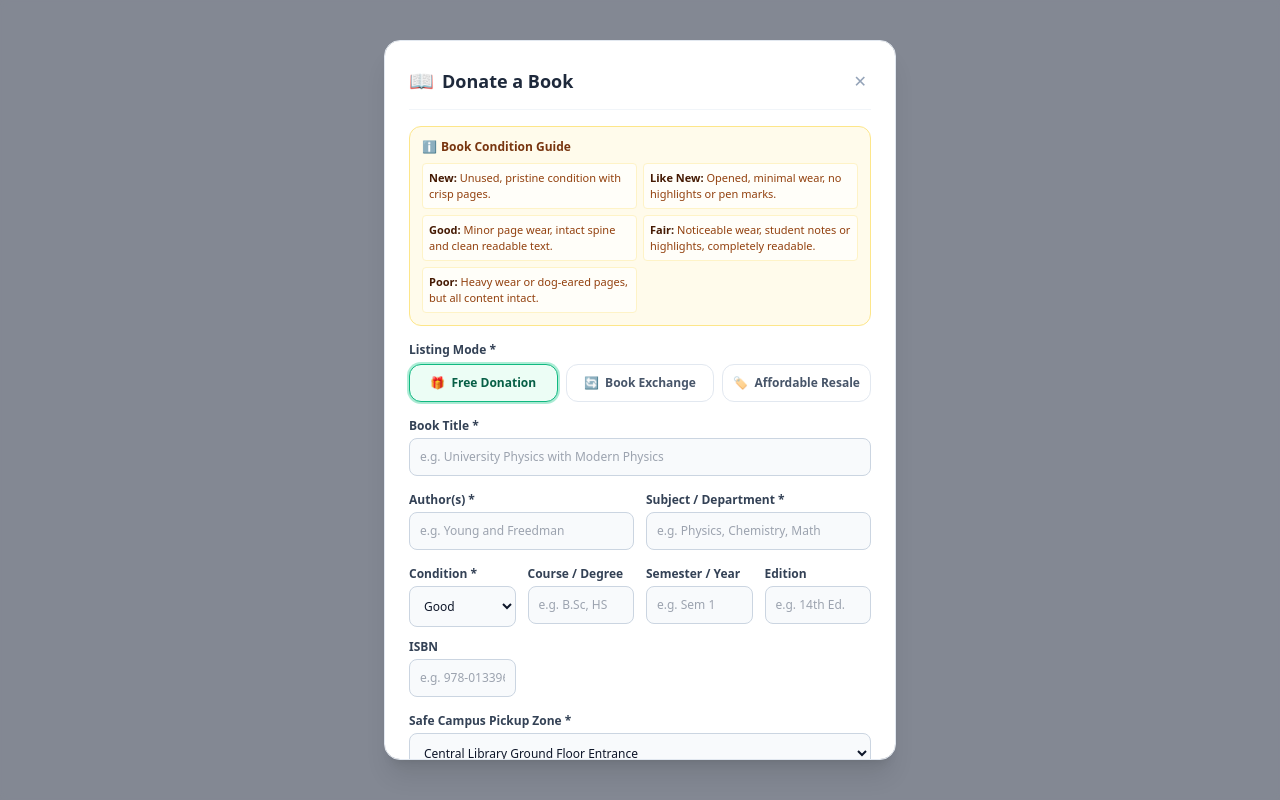
Test: DonateBookModal Component (CS-004 & CS-011) › switches to Exchange (Barter) mode and submits exchangePreferences (CS-016)
The image size is (1280, 800).
Later steps or results of the test are not shown.
Click the button with test id "listing-type-exchange-btn" at coordinates (640, 383), box [566,364,714,402]
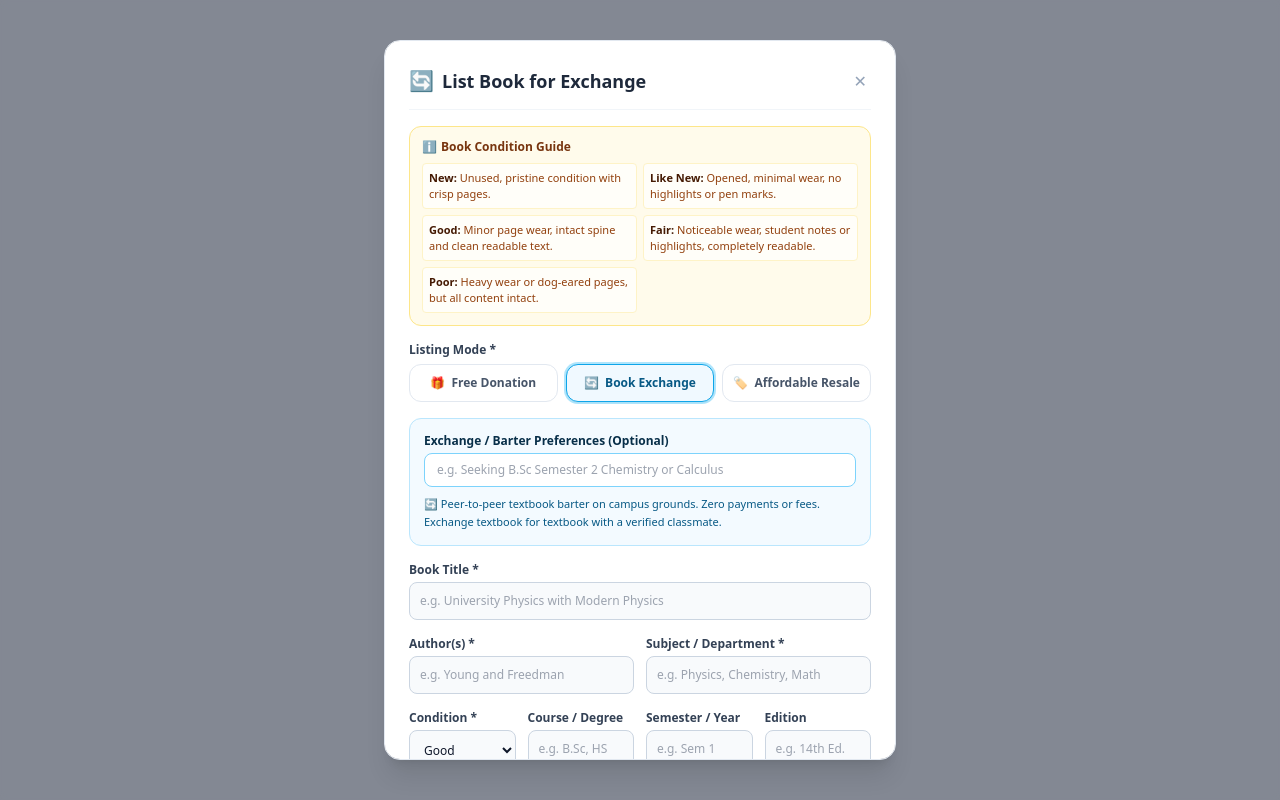
Expected: the field with test id "input-exchange-preferences" is shown, [424,453,856,487]
